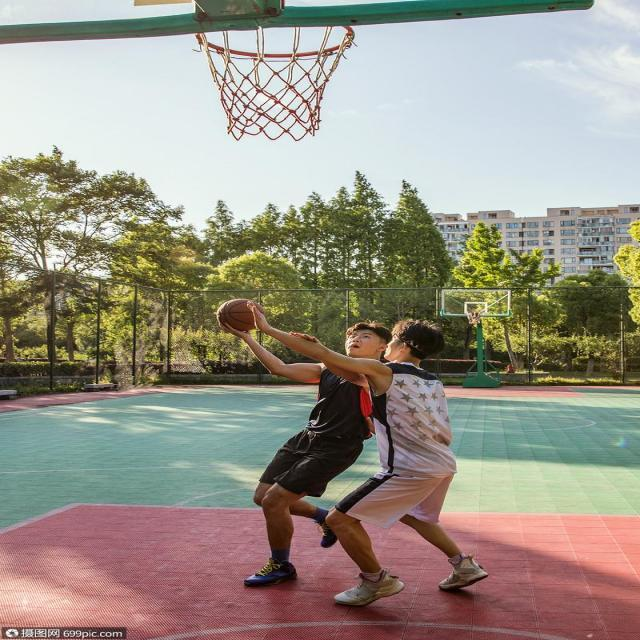rim: (216, 299, 262, 332)
